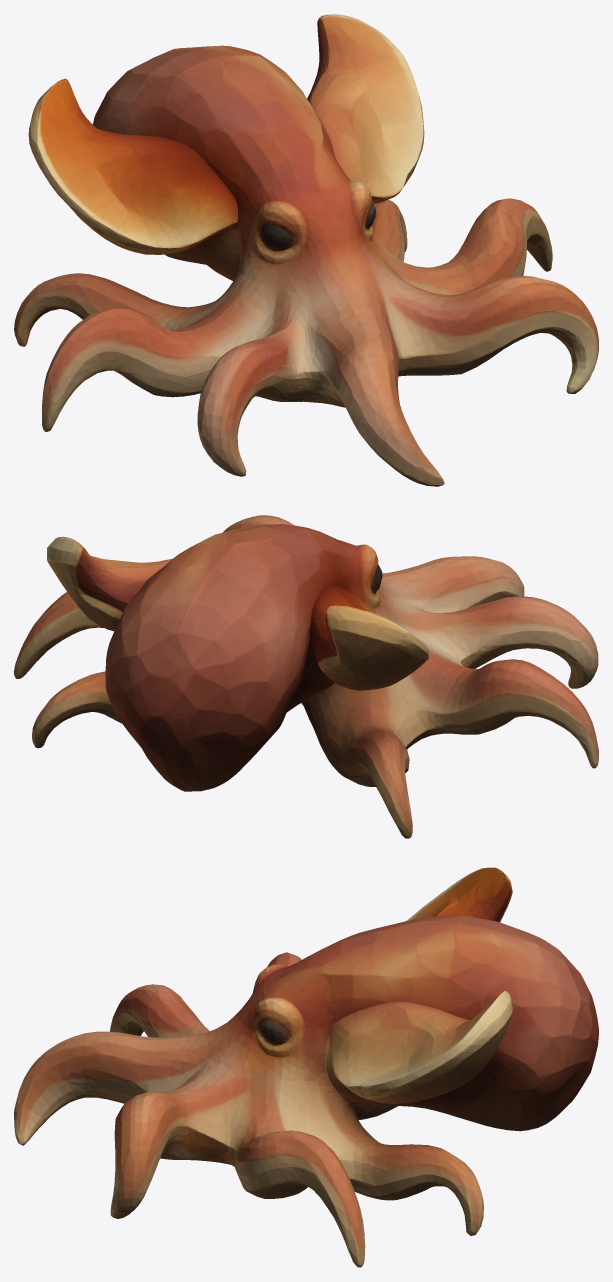
3 views of the same model, one above another, from view 1: azimuth 30°, elevation 25°; view 2: azimuth 150°, elevation 25°; view 3: azimuth 270°, elevation 25° (orthographic). The views are drawn at different scales.
Parts seen in each view (by area): view 1: world; view 2: world; view 3: world.
Part boxes in pixels (x1,y1,x2,y2): world: (14,14,598,486); world: (14,515,598,838); world: (14,867,598,1267).
Size of the model in its own units: 1 by 0.432 by 1.
1 material, 1 textured.
